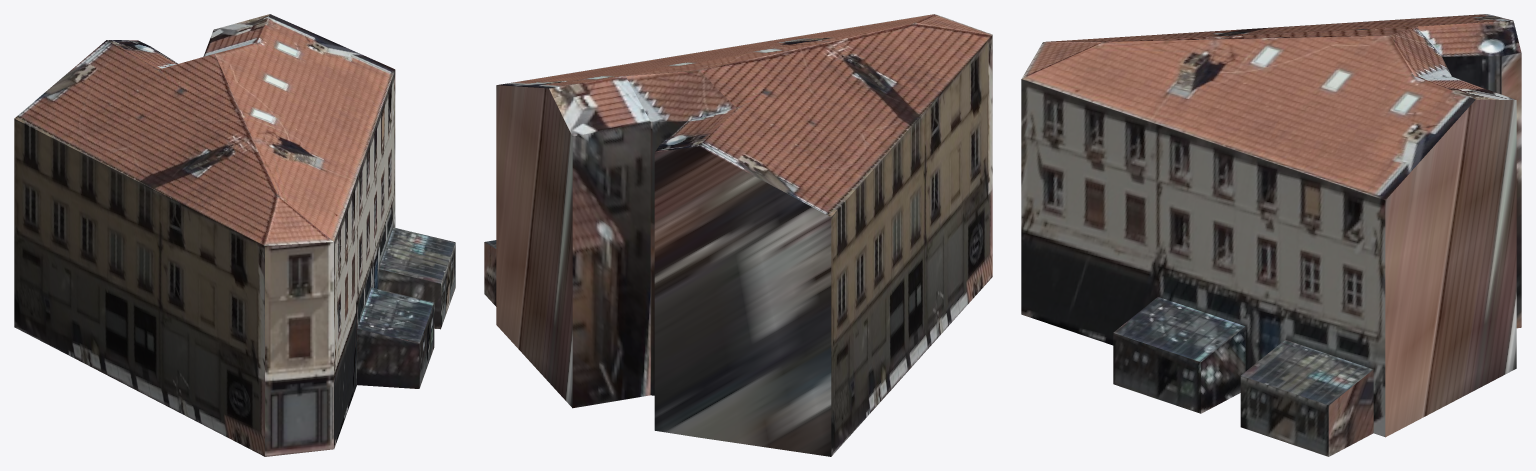
3 renders of one model, left to right at view 1: azimuth 30°, elevation 25°; view 2: azimuth 150°, elevation 25°; view 3: azimuth 270°, elevation 25°, orthographic. The views are drawn at different scales.
Parts seen in each view (by area): view 1: Z_UP; view 2: Z_UP; view 3: Z_UP.
Boxes of the visible parts, x1,y1,x2,y2 form: Z_UP: (14, 14, 455, 456); Z_UP: (484, 14, 992, 456); Z_UP: (1021, 14, 1521, 456).
Size of the model in its own units: 21.58 by 14.79 by 22.14.
2 materials, 1 textured.
